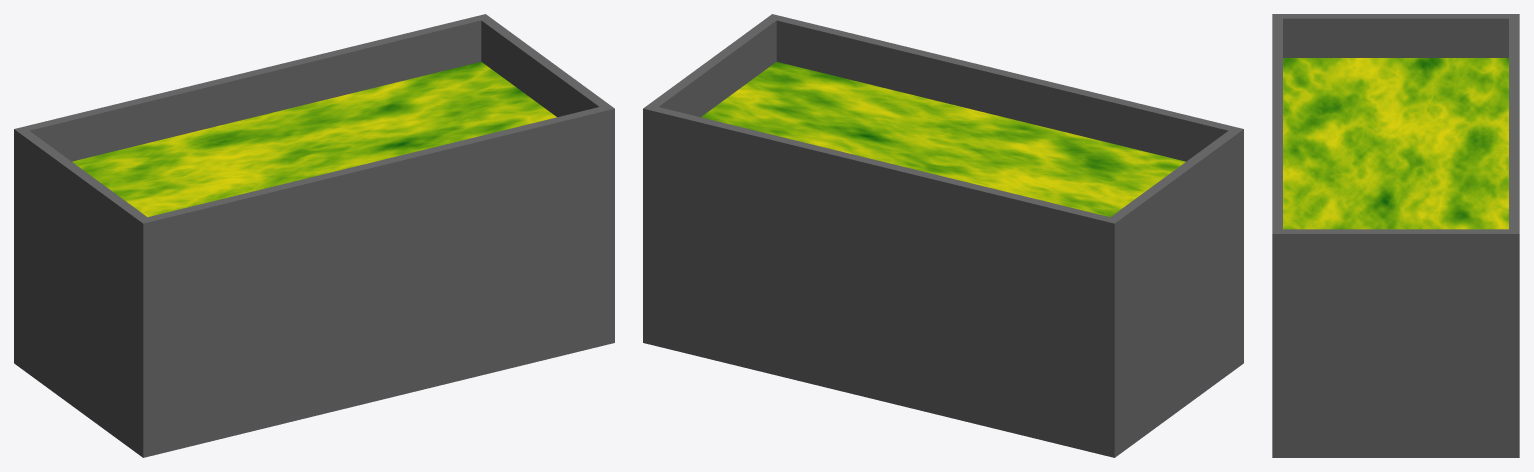
File: AcidBath.fbx
3 views of the same model, side by side, from view 1: azimuth 30°, elevation 25°; view 2: azimuth 150°, elevation 25°; view 3: azimuth 270°, elevation 25° (orthographic). The views are drawn at different scales.
Parts seen in each view (by area): view 1: Cube, Cube.001; view 2: Cube, Cube.001; view 3: Cube, Cube.001.
Part boxes in pixels (x1,y1,x2,y2): Cube: (14,14,614,457); Cube.001: (72,62,556,217); Cube: (643,14,1243,457); Cube.001: (701,62,1185,217); Cube: (1272,14,1519,457); Cube.001: (1283,58,1508,229).
Bounding box in the file's own units: 632 × 300 × 300.
